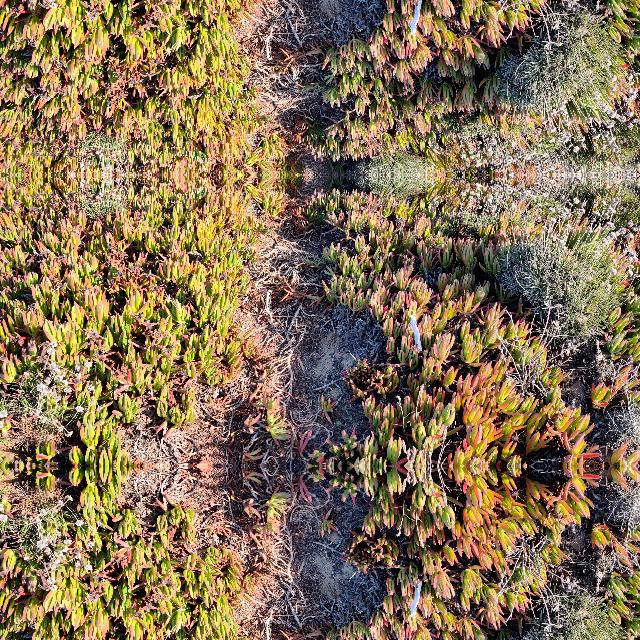Paper: (407, 310, 423, 354), (407, 577, 423, 621), (407, 0, 423, 38)
